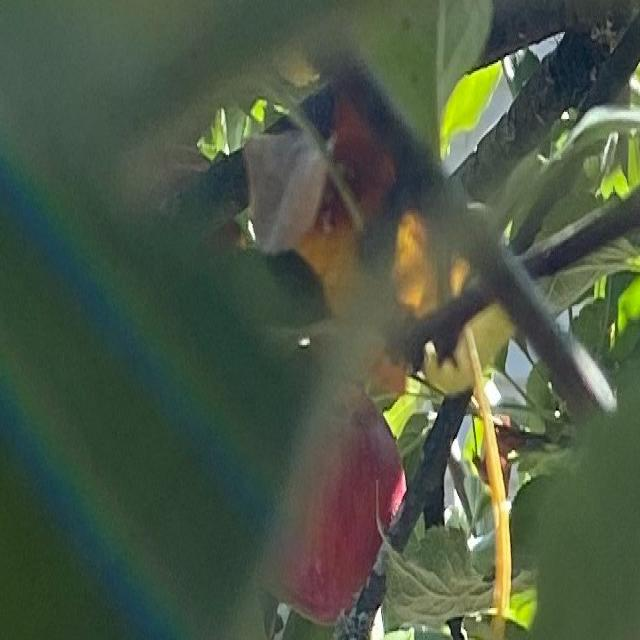Apples: (280, 393, 408, 622)
